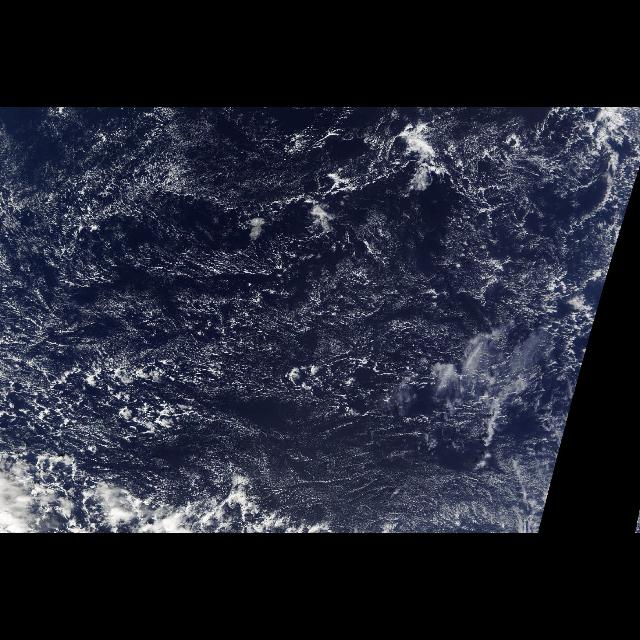Gravel: (8, 127, 574, 470)
Sugar: (1, 109, 226, 338), (256, 408, 536, 530)
